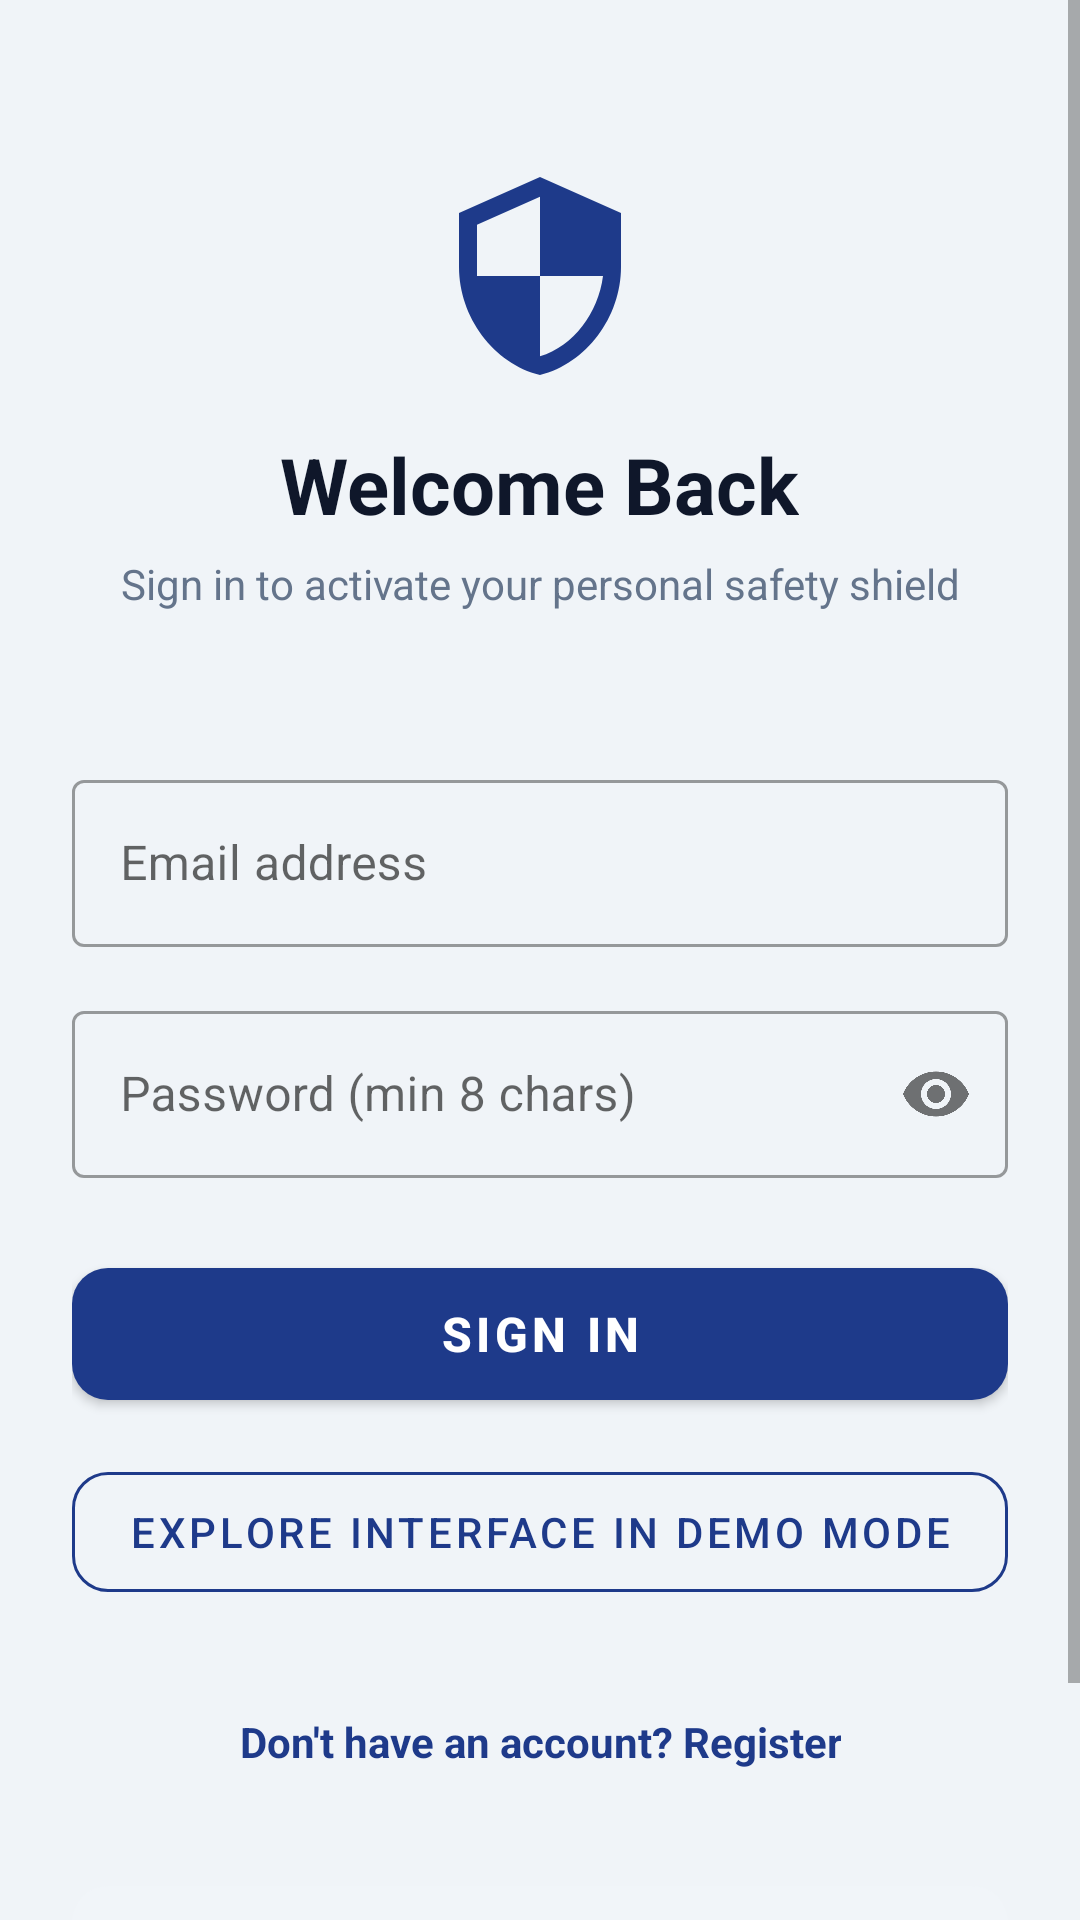

Point at icon controls on the screen. Image size 1080w x 1920h, points as point (x, y).
shield: point (540, 276)
